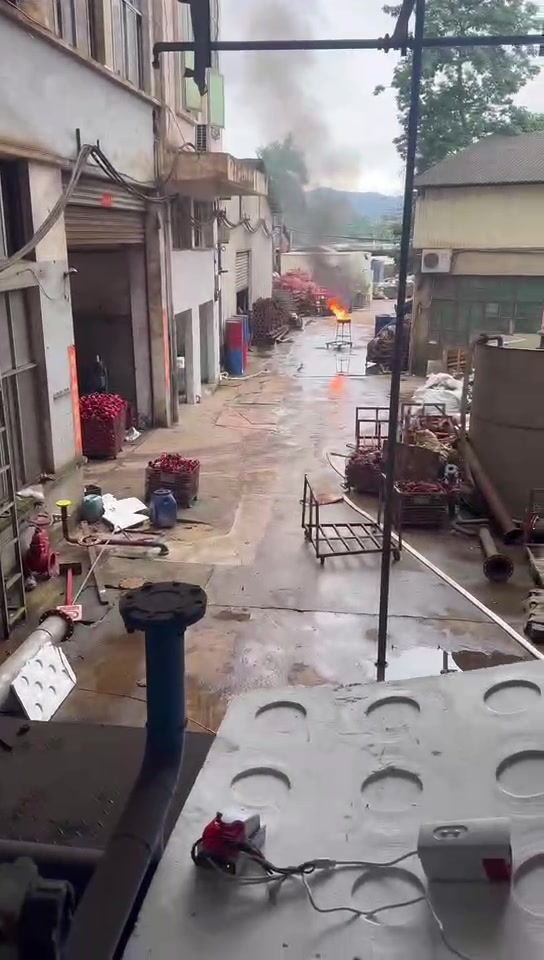fire: (329, 298, 347, 318)
